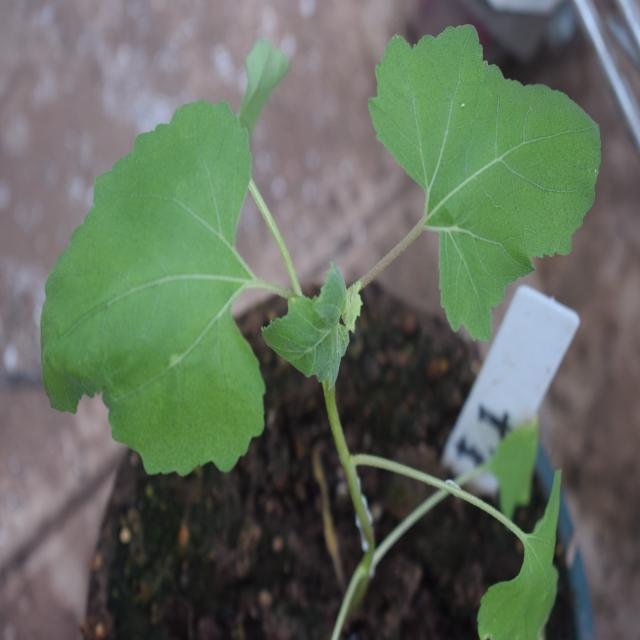cocklebur: (11, 37, 605, 516)
